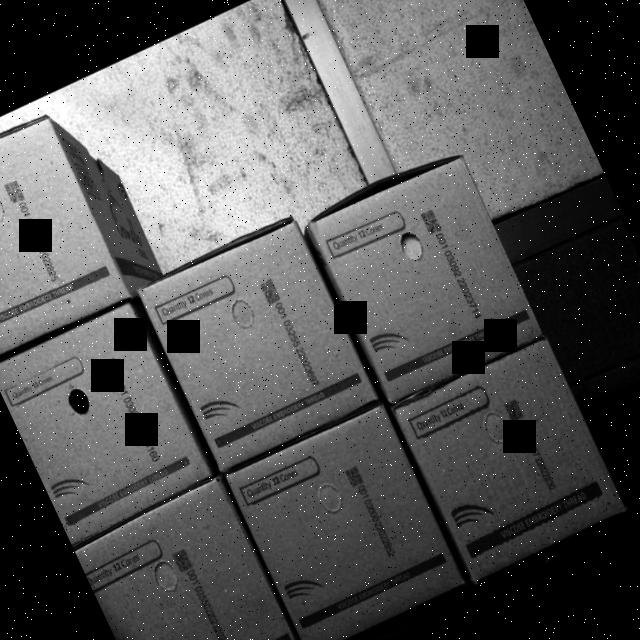box: (130, 210, 386, 480), (300, 146, 548, 408), (220, 398, 478, 640), (396, 341, 626, 580), (0, 294, 217, 547), (74, 479, 311, 640), (0, 104, 129, 359)
